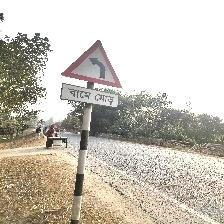Left-Turn: (59, 40, 123, 108)
